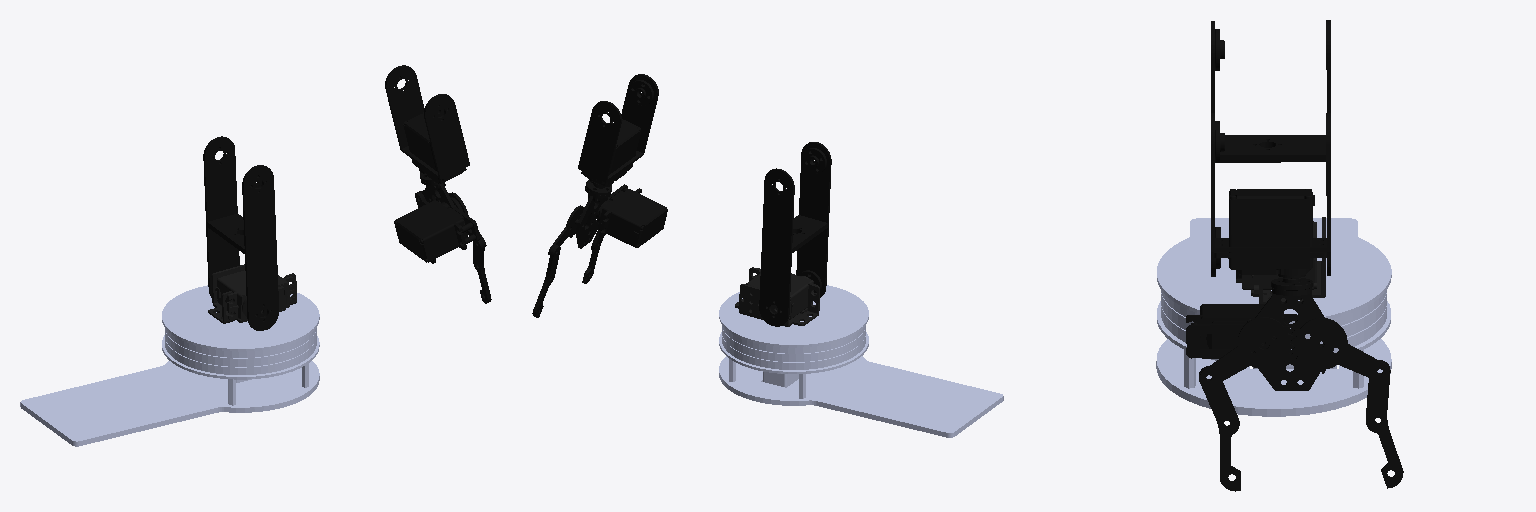
URDF robot description (six_servo):
<?xml version="1.0" encoding="utf-8" ?>
<!-- This URDF was automatically created by SolidWorks to URDF Exporter! Originally created by [author] ([email redacted]) 
     Commit Version: 1.6.0-1-g15f4949  Build Version: 1.6.7594.29634
     For more information, please see http://wiki.ros.org/sw_urdf_exporter -->
<robot name="six_servo">
    <link name="base_link">
        <inertial>
            <origin xyz="-0.018875 0.0012578 0.021854" rpy="0 0 0" />
            <mass value="0.19205" />
            <inertia ixx="0.00016092" ixy="2.2769E-06" ixz="-1.8938E-05" iyy="0.00040613" iyz="2.3218E-07" izz="0.0005467" />
        </inertial>
        <visual>
            <origin xyz="0 0 0" rpy="-1.5708 0 0" />
            <geometry>
                <mesh filename="package://six_servo/meshes/base_link.dae" scale="5 5 5"/>
            </geometry>
            <material name="">
                <color rgba="0.79216 0.81961 0.93333 1" />
            </material>
        </visual>
        <collision>
            <origin xyz="0 0 0" rpy="0 0 0" />
            <geometry>
                <mesh filename="package://six_servo/meshes/base_link.dae" scale="5 5 5"/>
            </geometry>
        </collision>
    </link>
    <link name="link1">
        <inertial>
            <origin xyz="0.019845 -0.018933 -0.01119" rpy="0 0 0" />
            <mass value="0.045014" />
            <inertia ixx="4.7182E-06" ixy="3.953E-08" ixz="1.6436E-09" iyy="9.8584E-06" iyz="-4.236E-07" izz="1.0906E-05" />
        </inertial>
        <visual>
            <origin xyz="0 0 0" rpy="0 0 0" />
            <geometry>
                <mesh filename="package://six_servo/meshes/link1.STL" scale="5 5 5"/>
            </geometry>
            <material name="">
                <color rgba="0.15 0.15 0.15 1" />
            </material>
        </visual>
        <collision>
            <origin xyz="0 0 0" rpy="0 0 0" />
            <geometry>
                <mesh filename="package://six_servo/meshes/link1.STL" scale="5 5 5"/>
            </geometry>
        </collision>
    </link>
    <joint name="joint1" type="revolute">
        <!--0.0076655 -0.05 -0.014602-->
        <origin xyz="-0.0383275 -0.073010 0.25" rpy="-3.14 -0.040154 0" />
        <parent link="base_link" />
        <child link="link1" />
        <axis xyz="0 0 1" />
        <limit lower="-1.5708" upper="1.5708" effort="2000" velocity="6.28" />
    </joint>
    <link name="link2">
        <inertial>
            <origin xyz="-9.6446E-05 -0.051 0.011223" rpy="0 0 0" />
            <mass value="0.049995" />
            <inertia ixx="4.6603E-05" ixy="-3.0854E-08" ixz="-1.1117E-20" iyy="3.0288E-05" iyz="-5.5477E-21" izz="2.134E-05" />
        </inertial>
        <visual>
            <origin xyz="0 0 0" rpy="0 0 0" />
            <geometry>
                <mesh filename="package://six_servo/meshes/link2.dae" scale="5 5 5"/>
            </geometry>
            <material name="">
                <color rgba="0.1 0.1 0.1 1" />
            </material>
        </visual>
        <collision>
            <origin xyz="0 0 0" rpy="0 0 0" />
            <geometry>
                <mesh filename="package://six_servo/meshes/link2.dae" scale="5 5 5"/>
            </geometry>
        </collision>
    </link>
    <joint name="joint2" type="revolute">
        <origin xyz="0.05 0 -0.066460" rpy="1.5708 0 0" />
        <parent link="link1" />
        <child link="link2" />
        <axis xyz="0 0 1" />
        <limit lower="-1.52" upper="1.52" effort="2000" velocity="6.28" />
    </joint>
    <link name="link3">
        <inertial>
            <origin xyz="0.07528 -0.018025 0.002122" rpy="0 0 0" />
            <mass value="0.11189" />
            <inertia ixx="1.1218E-05" ixy="1.0566E-10" ixz="3.2873E-09" iyy="2.5125E-05" iyz="-8.4719E-07" izz="2.7114E-05" />
        </inertial>
        <visual>
            <origin xyz="0 0 0" rpy="0 0 0" />
            <geometry>
                <mesh filename="package://six_servo/meshes/link3.dae" scale="5 5 5"/>
            </geometry>
            <material name="">
                <color rgba="0.1 0.1 0.1 1" />
            </material>
        </visual>
        <collision>
            <origin xyz="0 0 0" rpy="0 0 0" />
            <geometry>
                <mesh filename="package://six_servo/meshes/link3.dae" scale="5 5 5"/>
            </geometry>
        </collision>
    </link>
    <joint name="joint3" type="revolute">
        <origin xyz="-0.00096445 -0.510 0" rpy="-1.5708 0 -0.099914" />
        <parent link="link2" />
        <child link="link3" />
        <axis xyz="0 1 0" />
        <limit lower="-1.047" upper="2.093" effort="2000" velocity="6.28" />
    </joint>
    <link name="link4">
        <inertial>
            <origin xyz="-0.012388 0.035123 1.8331E-05" rpy="0 0 0" />
            <mass value="0.051687" />
            <inertia ixx="1.0059E-05" ixy="3.877E-08" ixz="6.0397E-13" iyy="1.9542E-05" iyz="3.8857E-09" izz="2.5393E-05" />
        </inertial>
        <visual>
            <origin xyz="0 0 0" rpy="0 0 0" />
            <geometry>
                <mesh filename="package://six_servo/meshes/link4.dae" scale="5 5 5"/>
            </geometry>
            <material name="">
                <color rgba="0.1 0.1 0.1 1" />
            </material>
        </visual>
        <collision>
            <origin xyz="0 0 0" rpy="0 0 0" />
            <geometry>
                <mesh filename="package://six_servo/meshes/link4.dae" scale="5 5 5"/>
            </geometry>
        </collision>
    </link>
    <joint name="joint4" type="revolute">
        <origin xyz="0.75285 0 0" rpy="1.6698 0 1.5708" />
        <parent link="link3" />
        <child link="link4" />
        <axis xyz="1 0 0" />
        <limit lower="-0.7854" upper="2.3546" effort="2000" velocity="6.28" />
    </joint>
    <link name="link5">
        <inertial>
            <origin xyz="-0.016771 -0.019023 -0.026447" rpy="0 0 0" />
            <mass value="0.039432" />
            <inertia ixx="7.2715E-06" ixy="-7.6833E-08" ixz="3.0175E-10" iyy="2.3347E-06" iyz="8.7991E-09" izz="6.5466E-06" />
        </inertial>
        <visual>
            <origin xyz="0 0 0" rpy="0 0 0" />
            <geometry>
                <mesh filename="package://six_servo/meshes/link5.dae" scale="5 5 5"/>
            </geometry>
            <material name="">
                <color rgba="0.1 0.1 0.1 1" />
            </material>
        </visual>
        <collision>
            <origin xyz="0 0 0" rpy="0 0 0" />
            <geometry>
                <mesh filename="package://six_servo/meshes/link5.dae" scale="5 5 5"/>
            </geometry>
        </collision>
    </link>
    <joint name="joint5" type="revolute">
        <origin xyz="-0.11625 0.334020 17.8725E-05" rpy="-1.5708 -1.566 3.1416" />
        <parent link="link4" />
        <child link="link5" />
        <axis xyz="0 0 1" />
        <limit lower="-1.5708" upper="1.5708" effort="2000" velocity="6.28" />
    </joint>
    <link name="link6_1">
        <inertial>
            <origin xyz="0.00011182 -0.0027632 0.0047626" rpy="0 0 0" />
            <mass value="0.0034196" />
            <inertia ixx="2.6556E-07" ixy="-4.9134E-09" ixz="9.2644E-23" iyy="9.8312E-08" iyz="3.4328E-22" izz="3.5886E-07" />
        </inertial>
        <visual>
            <origin xyz="0 0 0" rpy="0 0 0" />
            <geometry>
                <mesh filename="package://six_servo/meshes/link6_1.dae" scale="5 5 5"/>
            </geometry>
            <material name="">
                <color rgba="0.1 0.1 0.1 1" />
            </material>
        </visual>
        <collision>
            <origin xyz="0 0 0" rpy="0 0 0" />
            <geometry>
                <mesh filename="package://six_servo/meshes/link6_1.dae" scale="5 5 5"/>
            </geometry>
        </collision>
    </link>
    <joint name="joint6_1" type="revolute">
        <origin xyz="0 -0.0675 -0.147855" rpy="1.5708 0.98921 1.5708" />
        <parent link="link5" />
        <child link="link6_1" />
        <axis xyz="0 0 1" />
        <limit lower="0" upper="0.9599" effort="2000" velocity="6.28" />
    </joint>
    <link name="link7_1">
        <inertial>
            <origin xyz="-0.0062954 0.022738 0.014232" rpy="0 0 0" />
            <mass value="0.0014839" />
            <inertia ixx="4.3406E-07" ixy="7.4037E-08" ixz="7.9409E-23" iyy="2.9089E-08" iyz="-4.0739E-22" izz="4.6093E-07" />
        </inertial>
        <visual>
            <origin xyz="0 0 0" rpy="0 0 0" />
            <geometry>
                <mesh filename="package://six_servo/meshes/link7_1.STL" scale="5 5 5"/>
            </geometry>
            <material name="">
                <color rgba="0.1 0.1 0.1 1" />
            </material>
        </visual>
        <collision>
            <origin xyz="0 0 0" rpy="0 0 0" />
            <geometry>
                <mesh filename="package://six_servo/meshes/link7_1.STL" scale="5 5 5"/>
            </geometry>
        </collision>
    </link>
    <joint name="joint7_1" type="continuous">
        <origin xyz="-0.00097820 -0.155245 -0.052410" rpy="0 0 -2.2378" />
        <parent link="link6_1" />
        <child link="link7_1" />
        <axis xyz="0 0 1" />
        <limit lower="0" upper="0" effort="2000" velocity="6.28" />
        <mimic joint="joint6_1" multiplier="-1" offset="0.0873" />
    </joint>
    <link name="link6_2">
        <inertial>
            <origin xyz="0.00026689 -0.0065013 -0.011645" rpy="0 0 0" />
            <mass value="0.0014534" />
            <inertia ixx="2.1584E-07" ixy="-4.8715E-09" ixz="2.9779E-23" iyy="4.7208E-08" iyz="2.068E-23" izz="2.62E-07" />
        </inertial>
        <visual>
            <origin xyz="0 0 0" rpy="0 0 0" />
            <geometry>
                <mesh filename="package://six_servo/meshes/link6_2.STL" scale="5 5 5"/>
            </geometry>
            <material name="">
                <color rgba="0.1 0.1 0.1 1" />
            </material>
        </visual>
        <collision>
            <origin xyz="0 0 0" rpy="0 0 0" />
            <geometry>
                <mesh filename="package://six_servo/meshes/link6_2.STL" scale="5 5 5"/>
            </geometry>
        </collision>
    </link>
    <joint name="joint6_2" type="continuous">
        <origin xyz="-0.0271135 0.070 -0.149730" rpy="1.5708 1.1052 -1.5708" />
        <parent link="link5" />
        <child link="link6_2" />
        <axis xyz="0 0 1" />
        <limit lower="0" upper="0" effort="2000" velocity="6.28" />
        <mimic joint="joint6_1" multiplier="1" offset="0" />
    </joint>
    <link name="link7_2">
        <inertial>
            <origin xyz="-0.0062954 0.022738 -0.01465" rpy="0 0 0" />
            <mass value="0.0014839" />
            <inertia ixx="4.3406E-07" ixy="7.4037E-08" ixz="-2.068E-23" iyy="2.9089E-08" iyz="-3.3294E-23" izz="4.6093E-07" />
        </inertial>
        <visual>
            <origin xyz="0 0 0" rpy="0 0 0" />
            <geometry>
                <mesh filename="package://six_servo/meshes/link7_2.STL" scale="5 5 5"/>
            </geometry>
            <material name="">
                <color rgba="0.1 0.1 0.1 1" />
            </material>
        </visual>
        <collision>
            <origin xyz="0 0 0" rpy="0 0 0" />
            <geometry>
                <mesh filename="package://six_servo/meshes/link7_2.STL" scale="5 5 5"/>
            </geometry>
        </collision>
    </link>
    <joint name="joint7_2" type="continuous">
        <origin xyz="-0.00097820 -0.155245 0.027135" rpy="0 0 -2.3584" />
        <parent link="link6_2" />
        <child link="link7_2" />
        <axis xyz="0 0 1" />
        <limit lower="0" upper="0" effort="2000" velocity="6.28" />
        <mimic joint="joint7_1" multiplier="1" offset="0.2618" />
    </joint>
    <transmission name="trans_joint1">
        <type>transmission_interface/SimpleTransmission</type>
        <joint name="joint1">
            <hardwareInterface>hardware_interface/EffortJointInterface</hardwareInterface>
        </joint>
        <actuator name="joint1_motor">
            <hardwareInterface>hardware_interface/EffortJointInterface</hardwareInterface>
            <mechanicalReduction>1</mechanicalReduction>
        </actuator>
    </transmission>
    <transmission name="trans_joint2">
        <type>transmission_interface/SimpleTransmission</type>
        <joint name="joint2">
            <hardwareInterface>hardware_interface/EffortJointInterface</hardwareInterface>
        </joint>
        <actuator name="joint2_motor">
            <hardwareInterface>hardware_interface/EffortJointInterface</hardwareInterface>
            <mechanicalReduction>1</mechanicalReduction>
        </actuator>
    </transmission>
    <transmission name="trans_joint3">
        <type>transmission_interface/SimpleTransmission</type>
        <joint name="joint3">
            <hardwareInterface>hardware_interface/EffortJointInterface</hardwareInterface>
        </joint>
        <actuator name="joint3_motor">
            <hardwareInterface>hardware_interface/EffortJointInterface</hardwareInterface>
            <mechanicalReduction>1</mechanicalReduction>
        </actuator>
    </transmission>
    <transmission name="trans_joint4">
        <type>transmission_interface/SimpleTransmission</type>
        <joint name="joint4">
            <hardwareInterface>hardware_interface/EffortJointInterface</hardwareInterface>
        </joint>
        <actuator name="joint4_motor">
            <hardwareInterface>hardware_interface/EffortJointInterface</hardwareInterface>
            <mechanicalReduction>1</mechanicalReduction>
        </actuator>
    </transmission>
    <transmission name="trans_joint5">
        <type>transmission_interface/SimpleTransmission</type>
        <joint name="joint5">
            <hardwareInterface>hardware_interface/EffortJointInterface</hardwareInterface>
        </joint>
        <actuator name="joint5_motor">
            <hardwareInterface>hardware_interface/EffortJointInterface</hardwareInterface>
            <mechanicalReduction>1</mechanicalReduction>
        </actuator>
    </transmission>
    <transmission name="trans_joint6_1">
        <type>transmission_interface/SimpleTransmission</type>
        <joint name="joint6_1">
            <hardwareInterface>hardware_interface/EffortJointInterface</hardwareInterface>
        </joint>
        <actuator name="joint6_1_motor">
            <hardwareInterface>hardware_interface/EffortJointInterface</hardwareInterface>
            <mechanicalReduction>1</mechanicalReduction>
        </actuator>
    </transmission>
    <transmission name="trans_joint7_1">
        <type>transmission_interface/SimpleTransmission</type>
        <joint name="joint7_1">
            <hardwareInterface>hardware_interface/EffortJointInterface</hardwareInterface>
        </joint>
        <actuator name="joint7_1_motor">
            <hardwareInterface>hardware_interface/EffortJointInterface</hardwareInterface>
            <mechanicalReduction>1</mechanicalReduction>
        </actuator>
    </transmission>
    <transmission name="trans_joint6_2">
        <type>transmission_interface/SimpleTransmission</type>
        <joint name="joint6_2">
            <hardwareInterface>hardware_interface/EffortJointInterface</hardwareInterface>
        </joint>
        <actuator name="joint6_2_motor">
            <hardwareInterface>hardware_interface/EffortJointInterface</hardwareInterface>
            <mechanicalReduction>1</mechanicalReduction>
        </actuator>
    </transmission>
    <transmission name="trans_joint7_2">
        <type>transmission_interface/SimpleTransmission</type>
        <joint name="joint7_2">
            <hardwareInterface>hardware_interface/EffortJointInterface</hardwareInterface>
        </joint>
        <actuator name="joint7_2_motor">
            <hardwareInterface>hardware_interface/EffortJointInterface</hardwareInterface>
            <mechanicalReduction>1</mechanicalReduction>
        </actuator>
    </transmission>
    <gazebo>
        <plugin name="gazebo_ros_control">
            <robotNamespace>/</robotNamespace>
        </plugin>
    </gazebo>
</robot>

--- What the picture shows (computed from the rendered views, not written in the file) ---
The picture shows the robot from 3 angles, left to right: view 1: azimuth 30°, elevation 25°; view 2: azimuth 150°, elevation 25°; view 3: azimuth 270°, elevation 25°; orthographic projection.
Robot: six_servo — 10 links, 9 joints (6 revolute, 3 continuous); root link base_link; default pose: all joints at 0.
Visible links, largest first — view 1: base_link, link2, link4, link5, link1, link7_1; view 2: base_link, link2, link4, link5, link1, link7_2; view 3: base_link, link4, link5, link2, link6_2, link6_1, link7_2, link7_1, link1.
Link boxes in pixels (box(x1,y1,x2,y2)): base_link: box(20, 285, 319, 446); link2: box(203, 136, 278, 330); link4: box(385, 65, 469, 183); link5: box(394, 172, 480, 262); link1: box(208, 264, 296, 323); link7_1: box(473, 239, 491, 303); base_link: box(719, 285, 1003, 437); link2: box(759, 142, 831, 326); link4: box(578, 74, 658, 186); link5: box(576, 180, 667, 248); link1: box(735, 267, 819, 326); link7_2: box(532, 245, 560, 317); base_link: box(1156, 218, 1391, 416); link4: box(1211, 113, 1330, 278); link5: box(1186, 278, 1333, 390); link2: box(1211, 20, 1330, 276); link6_2: box(1291, 318, 1389, 381); link6_1: box(1200, 317, 1293, 387); link7_2: box(1366, 360, 1403, 488); link7_1: box(1199, 366, 1240, 491); link1: box(1236, 217, 1325, 303).
Bounding box of the posed robot: 1.75 × 0.5881 × 1 m (x, y, z).
Meshes: 10 distinct files referenced, 9 mesh visuals loaded (4 binary STL, 5 Collada DAE); not drawn: 1 (reference not matched to a file when rendering).